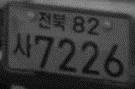2: (80, 40, 101, 76), (57, 37, 77, 73), (85, 16, 99, 36)
6: (103, 42, 124, 78)
7: (33, 33, 55, 69)
8: (72, 15, 85, 33)
사: (12, 32, 32, 58)
전북_H: (37, 10, 66, 32)
